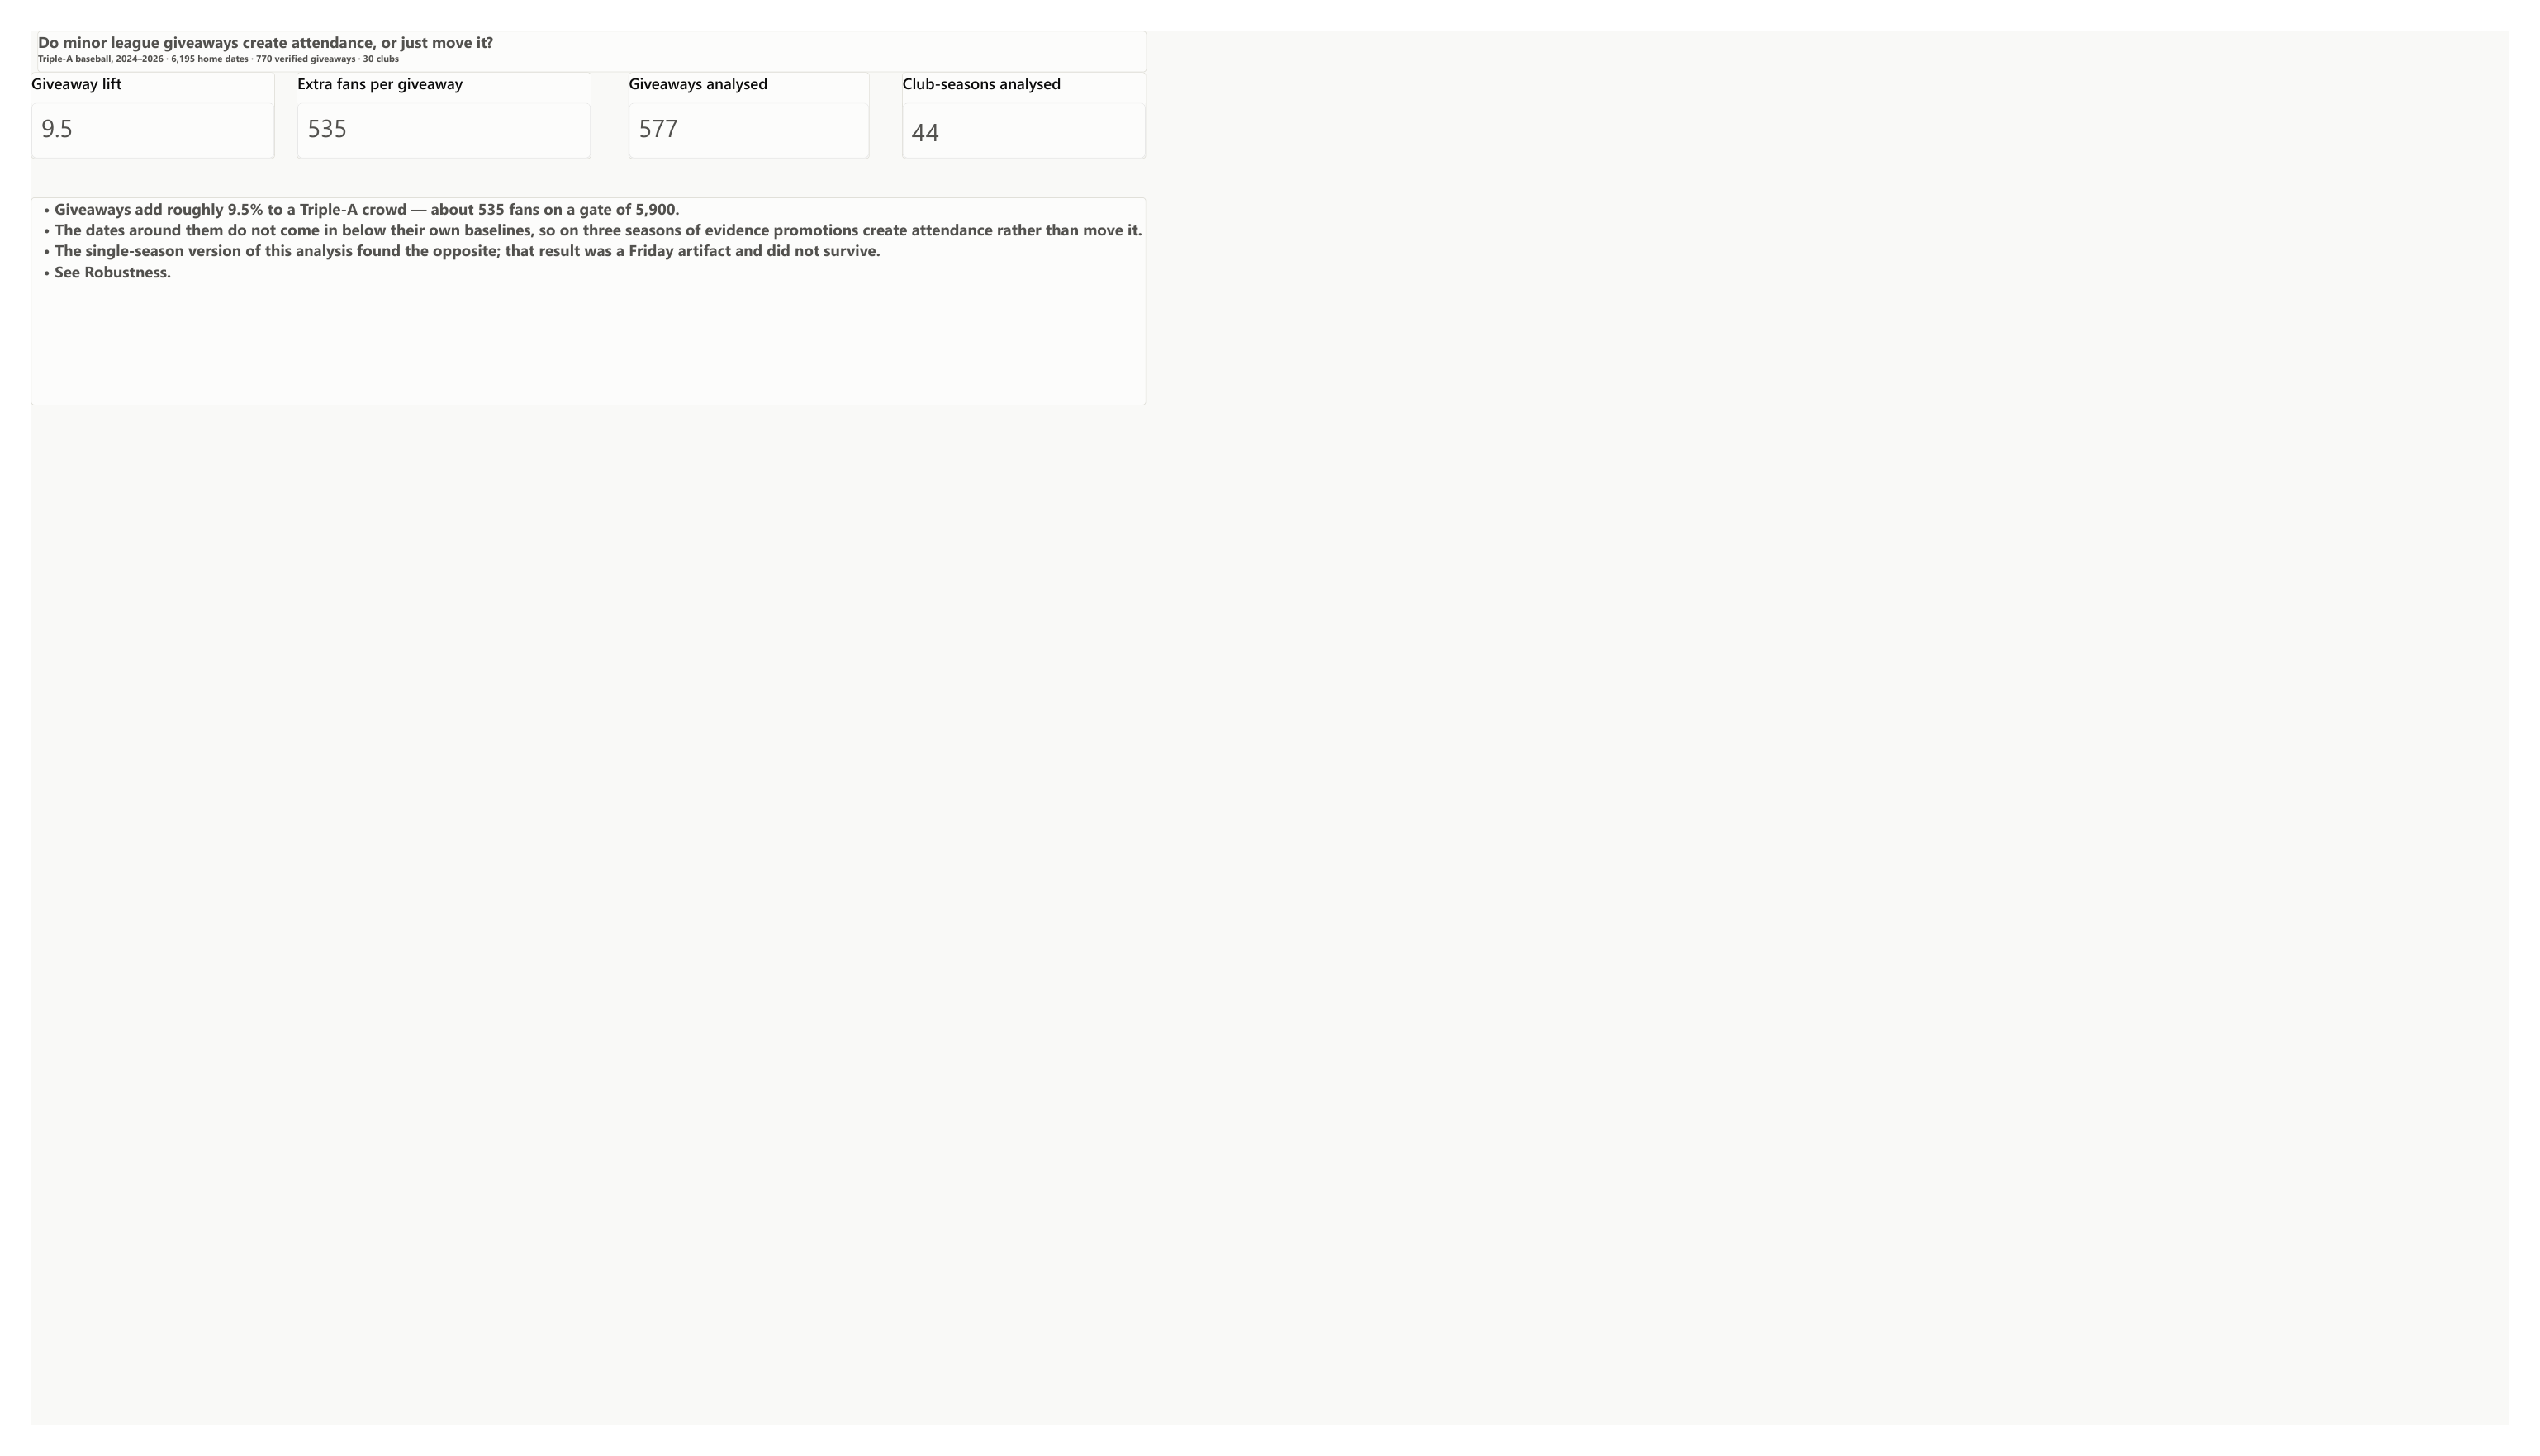

The page's visual inventory and layout, read from the dashboard file:
{"tool":"powerbi","page":{"name":"Page 1","canvas":[1920,1080],"ordinal":0},"visuals":[{"type":"textbox","box":[10.2,0,1909.8,71.5],"z":0},{"type":"cardVisual","title":"Giveaway lift","fields":{"Data":["dim_club.Effect vs Expected %"]},"box":[0,72.1,420.3,149.2],"z":1000},{"type":"cardVisual","title":"Extra fans per giveaway","fields":{"Data":["dim_club.Extra Fans per Giveaway"]},"box":[457.6,72.1,507.4,149.2],"z":2000},{"type":"cardVisual","title":"Giveaways analysed","fields":{"Data":["dim_club.Giveaway Dates"]},"box":[1029.6,72.1,415.3,149.2],"z":3000},{"type":"cardVisual","title":"Club-seasons analysed","fields":{"Data":["dim_club.Club Seasons Analysed"]},"box":[1499.7,72.1,420.3,149.2],"z":4000},{"type":"textbox","box":[0,286,1920,358.1],"z":5000}]}

Visuals, with their boxes on the page's 1920x1080 design canvas (x1, y1, x2, y2). These are canvas units, not pixel positions in the 2540x1456 screenshot, which may show the page scaled, cropped or inside an application window:
textbox: 10/0/1920/72
"Giveaway lift" cardVisual: 0/72/420/221
"Extra fans per giveaway" cardVisual: 458/72/965/221
"Giveaways analysed" cardVisual: 1030/72/1445/221
"Club-seasons analysed" cardVisual: 1500/72/1920/221
textbox: 0/286/1920/644
